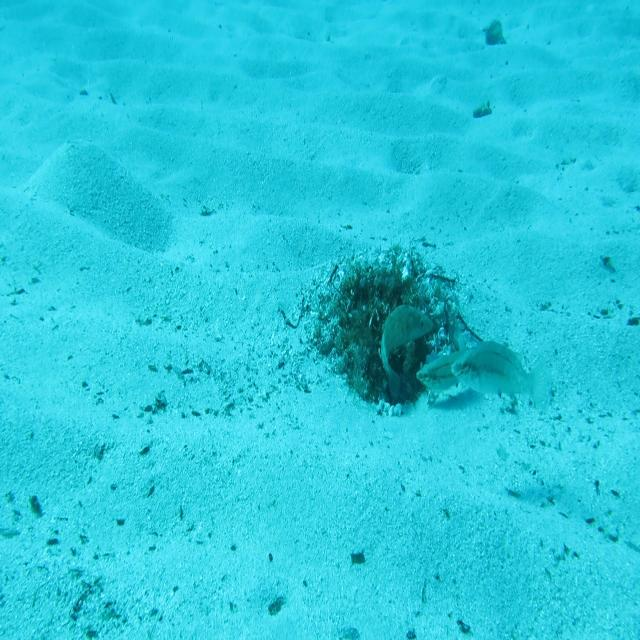DAN_CIRC: (380, 302, 435, 402), (388, 422, 396, 424)
core_nest: (367, 272, 412, 311)
female: (450, 340, 552, 417), (415, 339, 476, 393)
nest: (299, 230, 467, 424)
vegetation: (482, 20, 509, 49), (472, 98, 495, 122), (349, 550, 369, 567)
